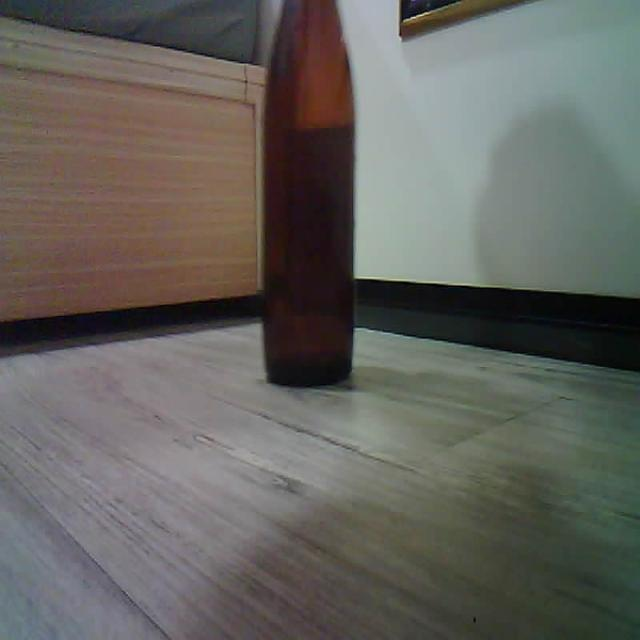bottle: (262, 0, 354, 385)
